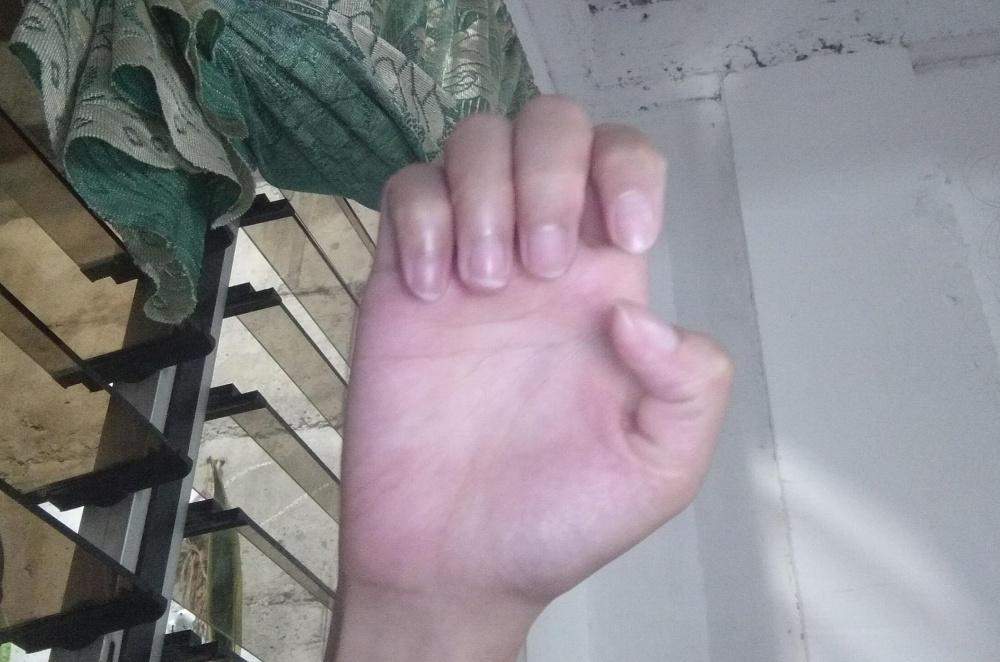e: (337, 93, 734, 603)
